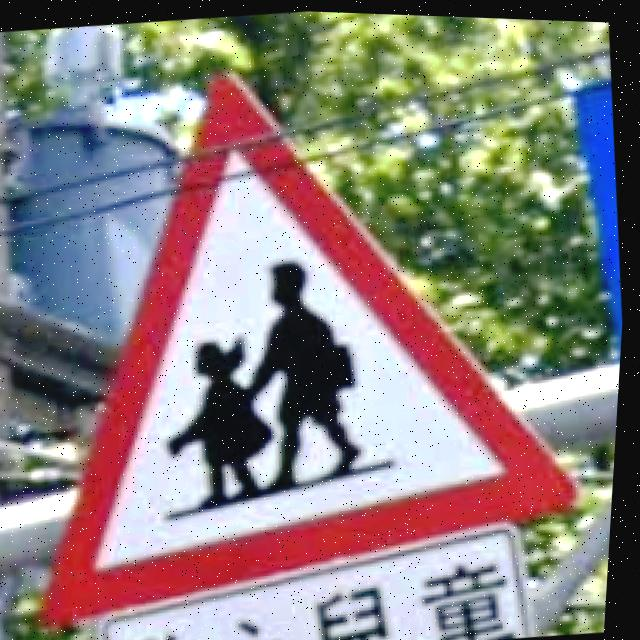childrencross: (51, 76, 588, 625)
